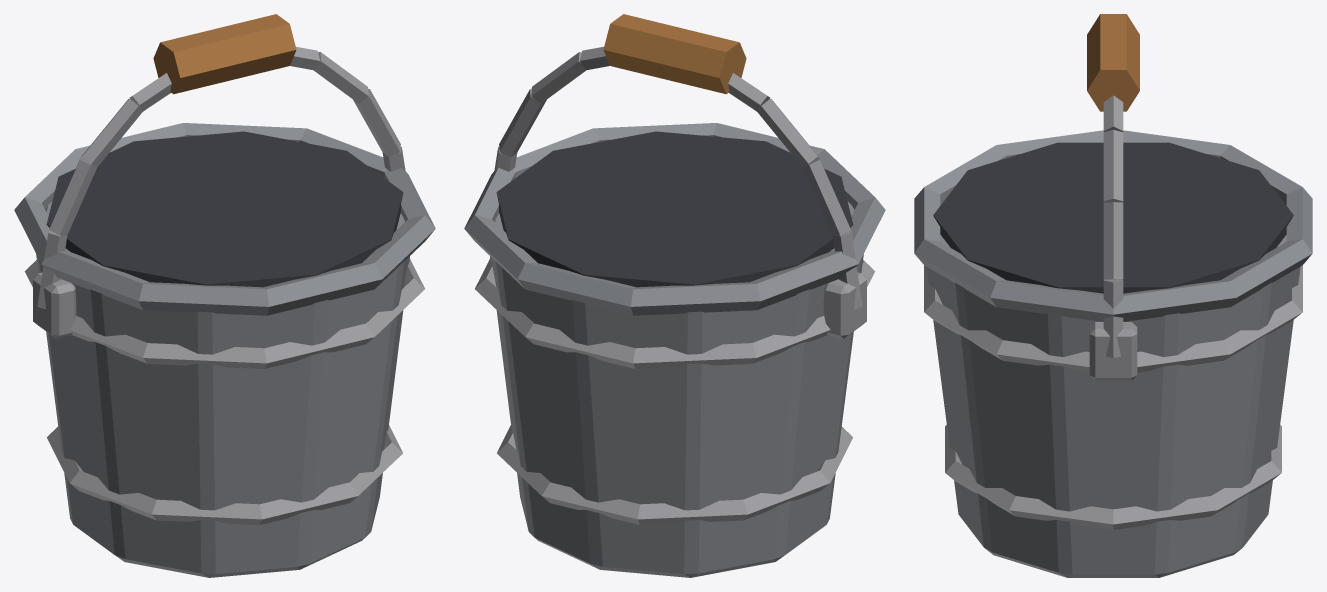
File: bucket.glb
3 views of the same model, side by side, from view 1: azimuth 30°, elevation 25°; view 2: azimuth 150°, elevation 25°; view 3: azimuth 270°, elevation 25° (orthographic).
Parts seen in each view (by area): view 1: bucket; view 2: bucket; view 3: bucket.
Boxes of the visible parts, x1=… form: bucket: x1=14, y1=14, x2=435, y2=577; bucket: x1=464, y1=14, x2=885, y2=577; bucket: x1=914, y1=14, x2=1312, y2=577.
Size of the model in its own units: 0.4517 by 0.5542 by 0.4204.
